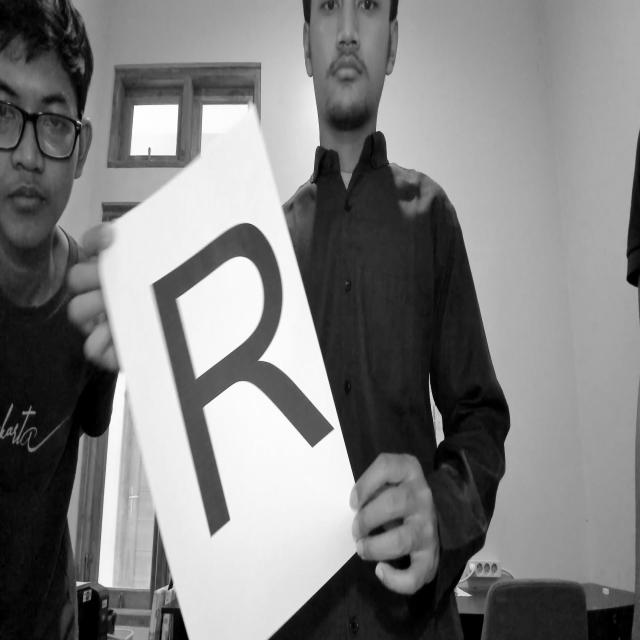r: (136, 212, 364, 578)
